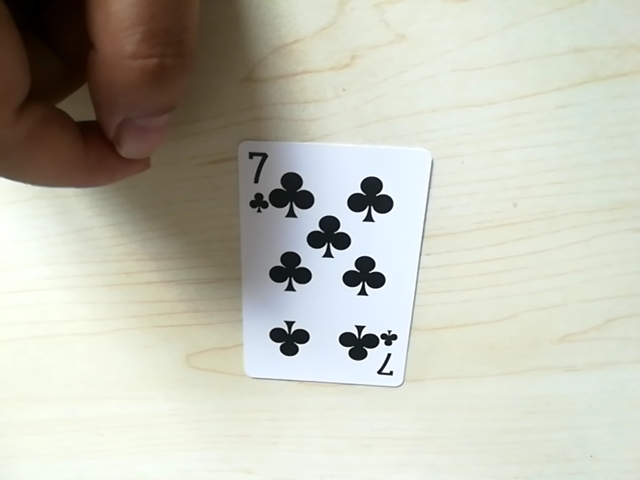mh 7: (243, 151, 282, 204), (364, 332, 400, 381)
